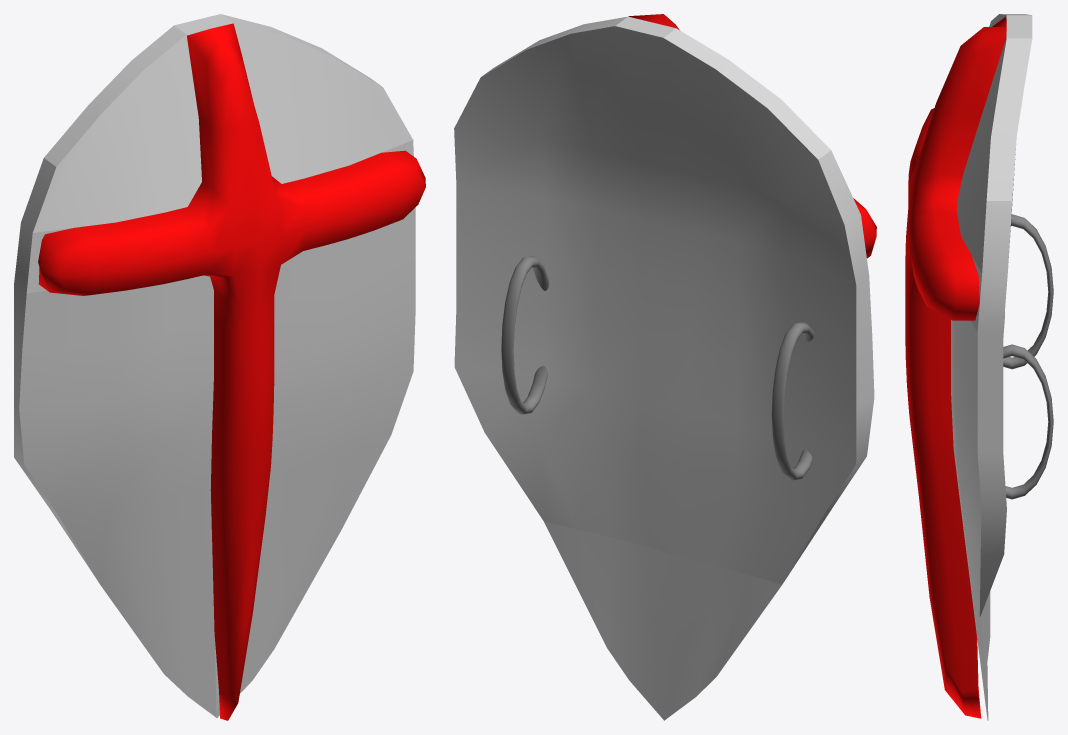
Rendered from escudo.fbx.
3 views of the same model, side by side, from view 1: azimuth 30°, elevation 25°; view 2: azimuth 150°, elevation 25°; view 3: azimuth 270°, elevation 25° (orthographic). The views are drawn at different scales.
Parts seen in each view (by area): view 1: pasted__pTorus1; view 2: pasted__pTorus1; view 3: pasted__pTorus1.
Part boxes in pixels (x1,y1,x2,y2): pasted__pTorus1: (14,14,425,720); pasted__pTorus1: (454,14,876,720); pasted__pTorus1: (905,14,1053,720).
Size of the model in its own units: 18.07 by 29.89 by 5.79.
